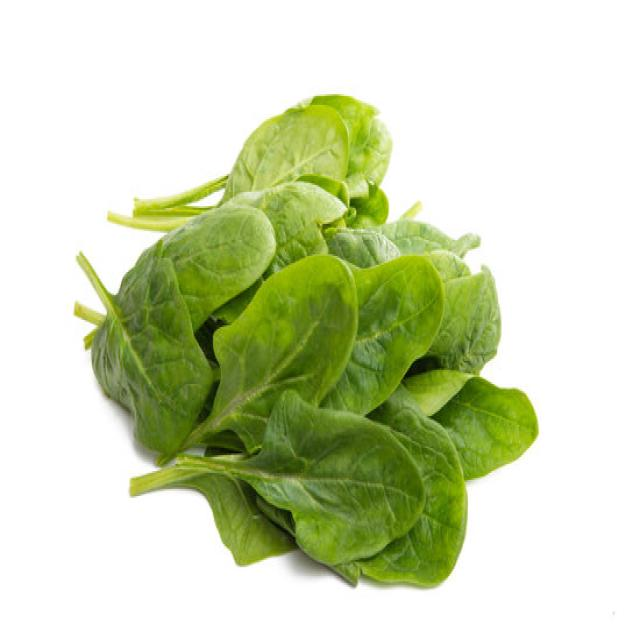Radish: (73, 199, 277, 462), (106, 92, 392, 233), (219, 102, 349, 206)
Spinach: (73, 91, 539, 590)
